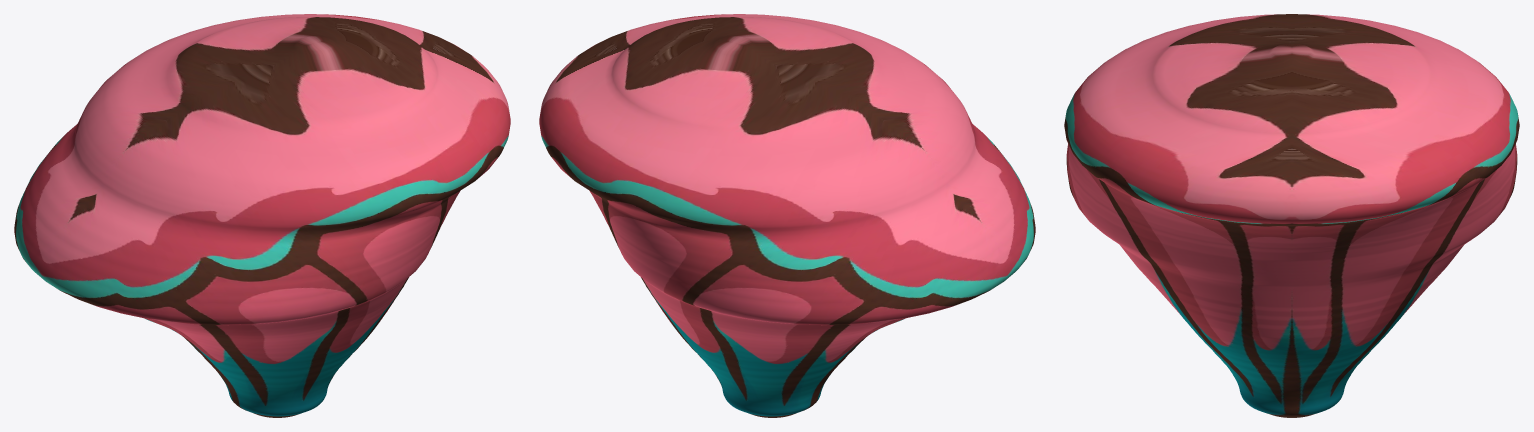
Rendered from ruffled_mushroom.glb.
The picture shows the model from 3 angles, left to right: view 1: azimuth 30°, elevation 25°; view 2: azimuth 150°, elevation 25°; view 3: azimuth 270°, elevation 25°; orthographic projection. The views are drawn at different scales.
Parts seen in each view (by area): view 1: ruffled_mushroom; view 2: ruffled_mushroom; view 3: ruffled_mushroom.
Part boxes in pixels (box(x1,y1,x2,y2)): ruffled_mushroom: box(14, 14, 510, 417); ruffled_mushroom: box(539, 14, 1035, 417); ruffled_mushroom: box(1064, 14, 1519, 417).
Bounding box in the file's own units: 0.9987 × 0.7659 × 0.8455.
Materials: 1 (1 with a texture image).
